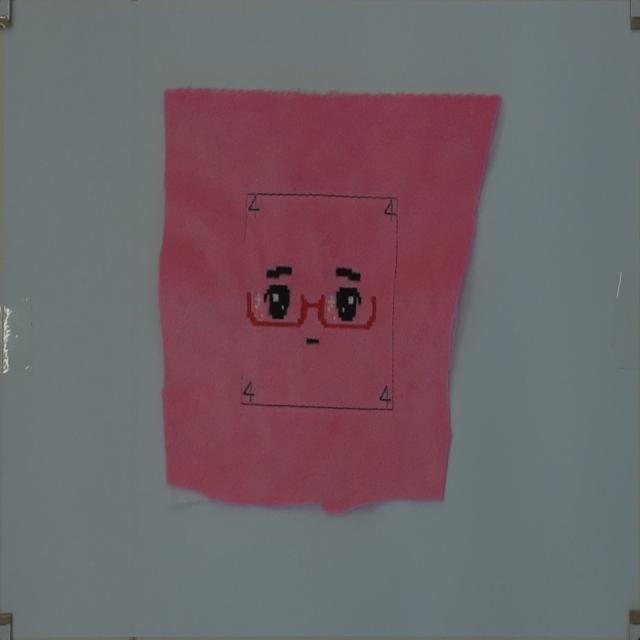4 -: (248, 193, 262, 219), (379, 381, 393, 406), (245, 376, 255, 405), (384, 199, 395, 221)
